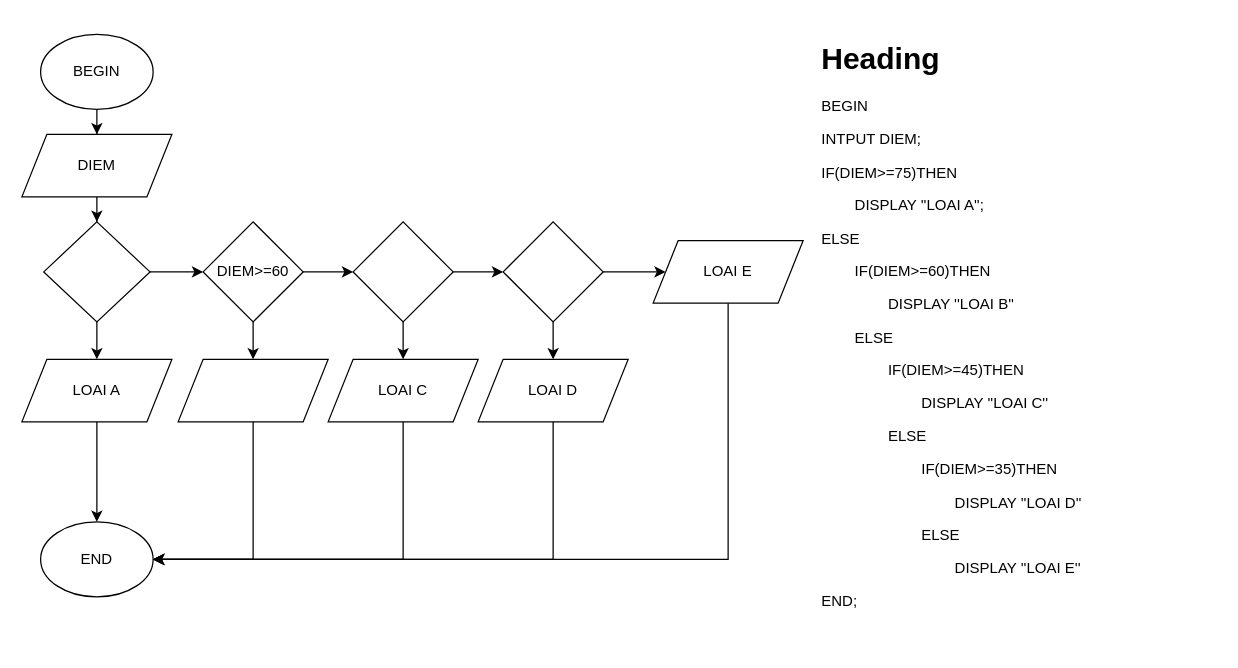
Some shapes in this 1238 by 668 pixel diagram are drawn without their labels. The shapes that lost their labels are listed below. From the top down, each one's centre as x and y in pixels, then its label:
At pixel 96 271: "DIEM>=75".
At pixel 402 271: "DIEM>=45".
At pixel 552 271: "DIEM>=35".
At pixel 252 390: "LOAI B".
